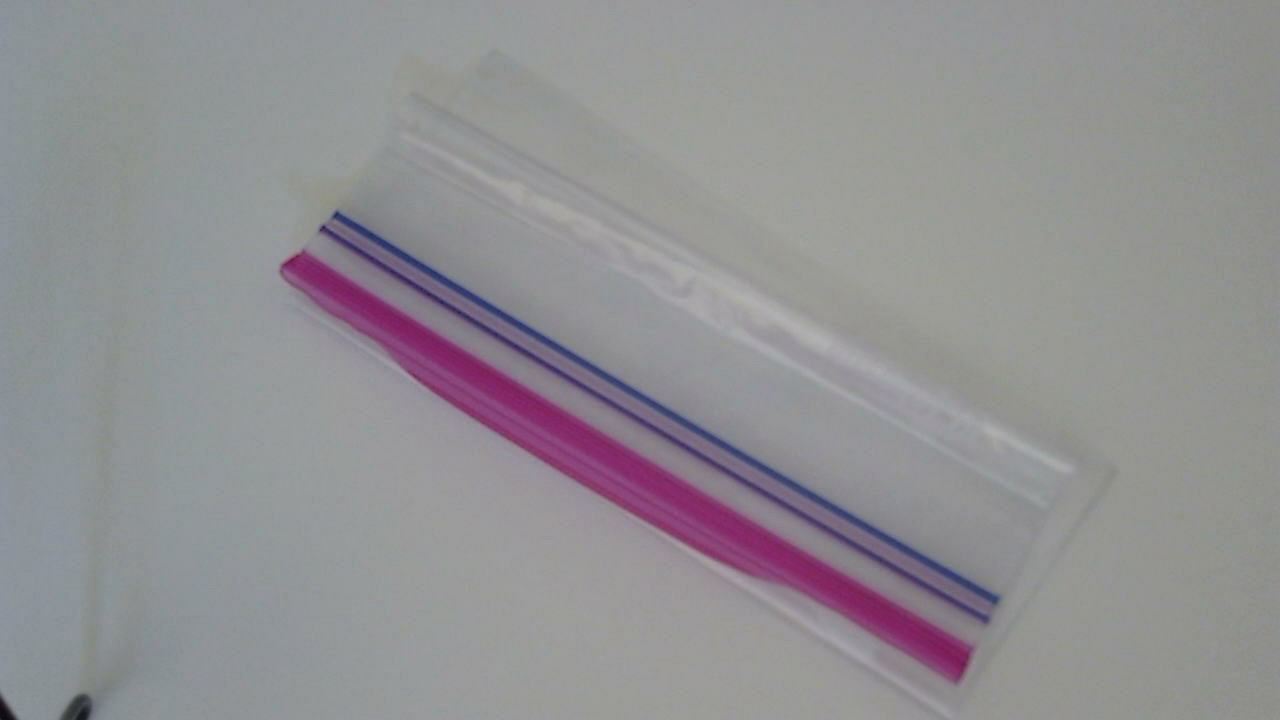Plastic Bag: (270, 50, 1123, 715)
